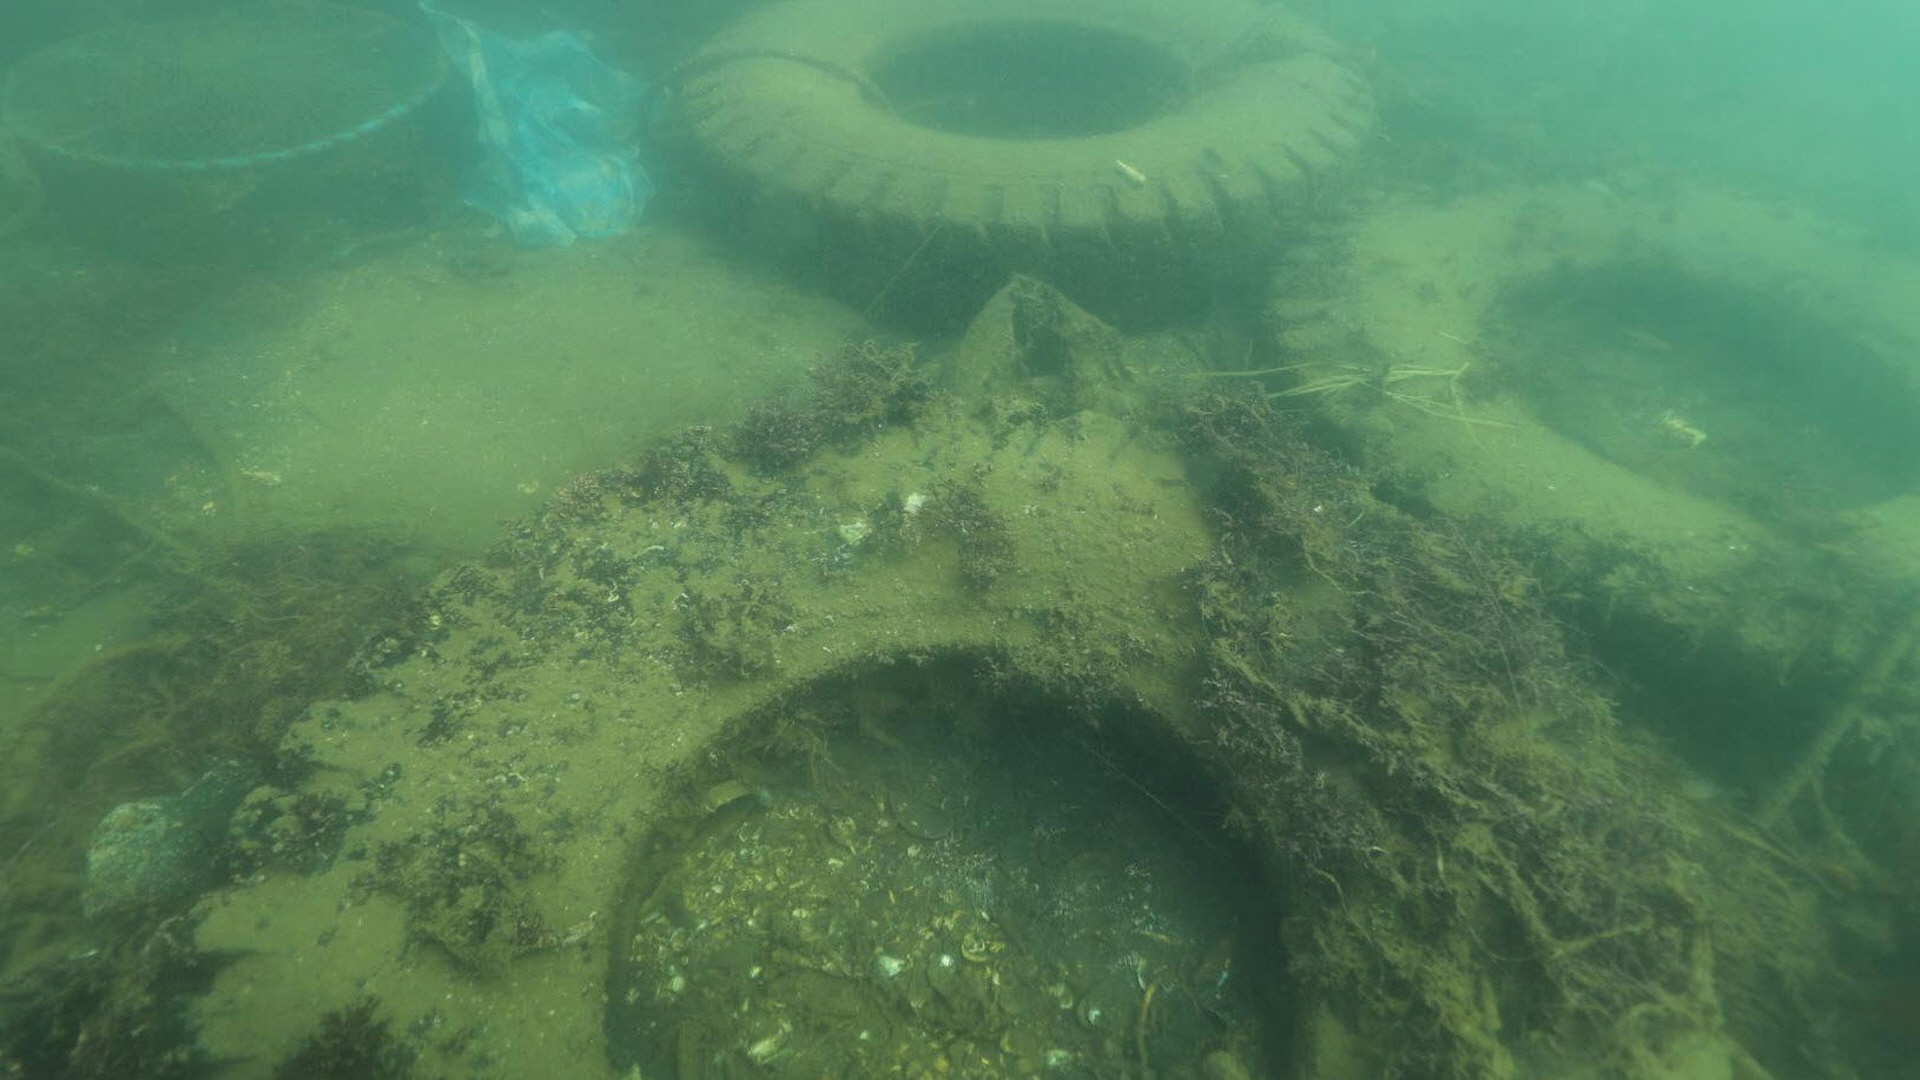circular fish trap: (0, 0, 450, 280)
tire: (194, 398, 1727, 1080), (1261, 175, 1919, 721), (679, 0, 1382, 335)
